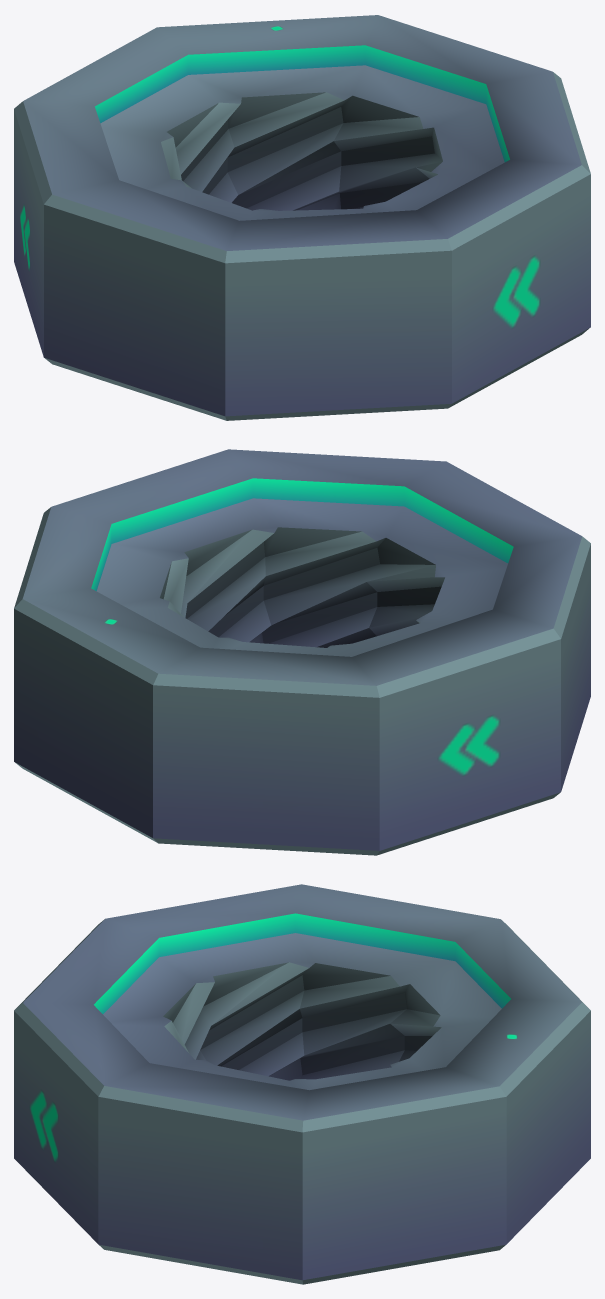
File: nut.glb
3 views of the same model, one above another, from view 1: azimuth 30°, elevation 25°; view 2: azimuth 150°, elevation 25°; view 3: azimuth 270°, elevation 25° (orthographic). The views are drawn at different scales.
Parts seen in each view (by area): view 1: Cylinder1; view 2: Cylinder1; view 3: Cylinder1.
Part boxes in pixels (x1=…): Cylinder1: x1=14, y1=15, x2=590, y2=420; Cylinder1: x1=14, y1=449, x2=590, y2=855; Cylinder1: x1=14, y1=884, x2=590, y2=1284.
Bounding box in the file's own units: 2.77 × 0.9094 × 2.77.
Materials: 1 (1 with a texture image).
